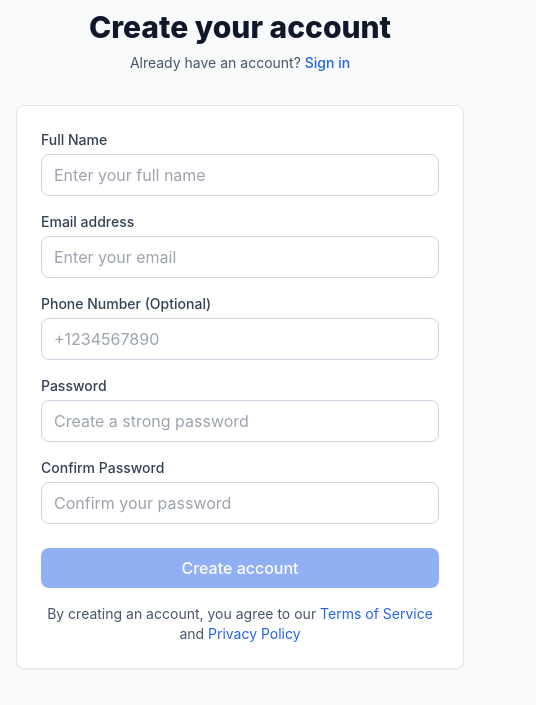
Test: RegisterPage › enables submit button for strong password
In the password field labelled "Password": (240, 421) [41,400,439,442], type "MyStrongP@ssw0rd123"
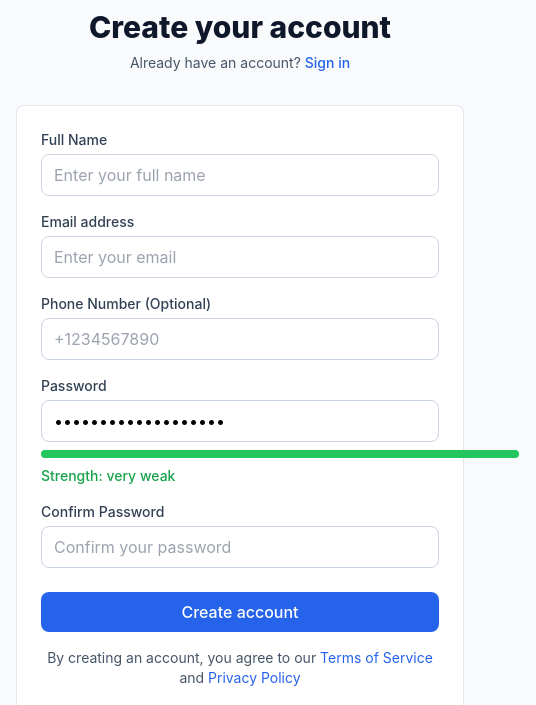
Check: the button "Create account" is enabled, box [41,592,439,632]
